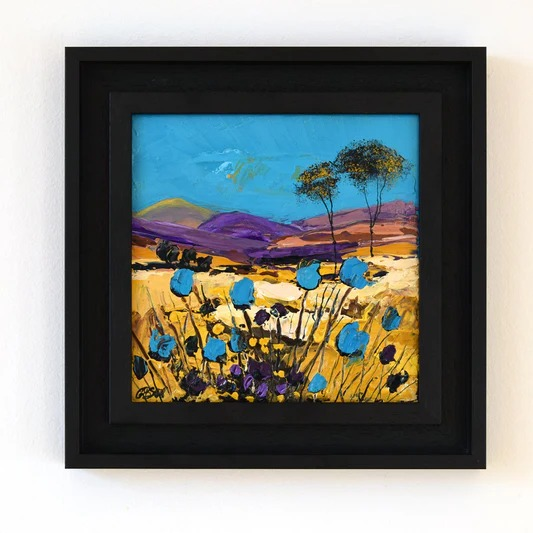painting: (63, 46, 488, 470)
